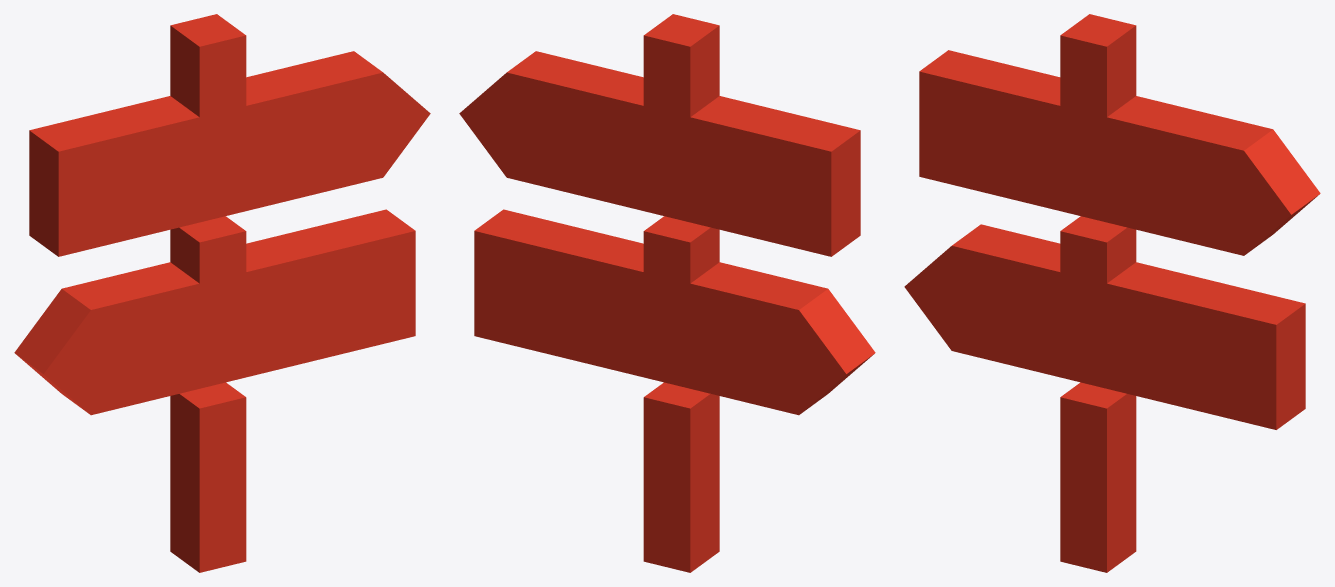
File: Icon_RoadSign.fbx
The picture shows the model from 3 angles, left to right: view 1: azimuth 30°, elevation 25°; view 2: azimuth 150°, elevation 25°; view 3: azimuth 330°, elevation 25°; orthographic projection.
Visible parts, largest first — view 1: Icon_RoadSign; view 2: Icon_RoadSign; view 3: Icon_RoadSign.
Boxes of the visible parts, bbox=[...] form: Icon_RoadSign: bbox=[14, 14, 430, 572]; Icon_RoadSign: bbox=[459, 14, 875, 572]; Icon_RoadSign: bbox=[904, 14, 1320, 572].
Size of the model in its own units: 58.78 by 76.33 by 7.7.
